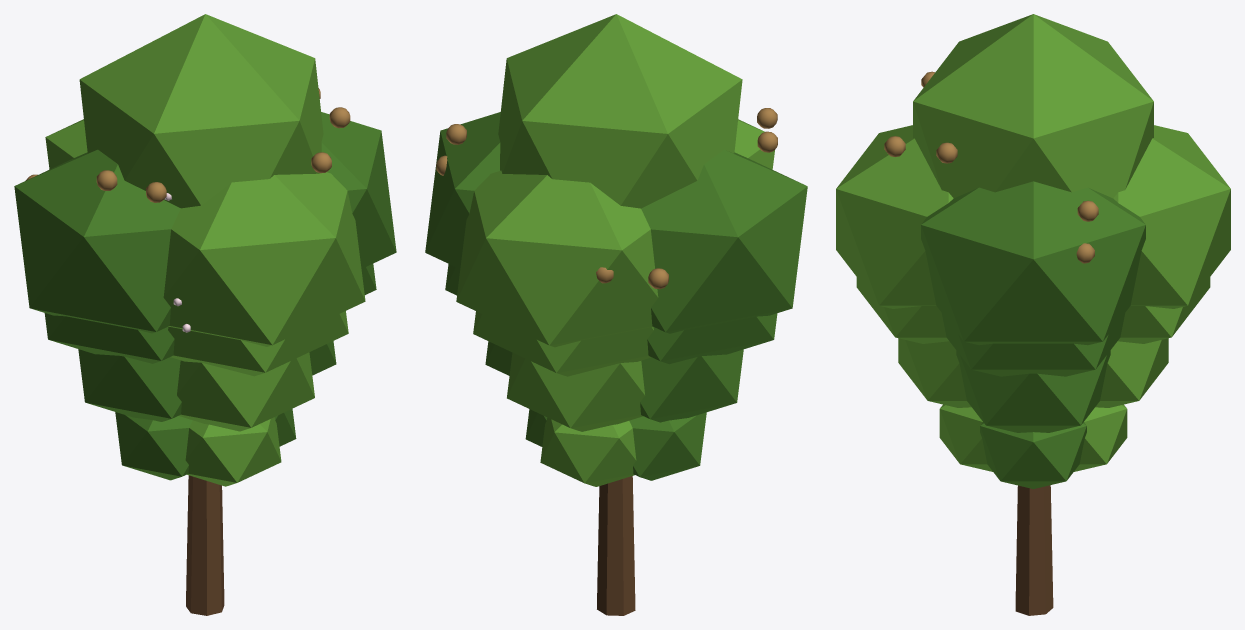
The model's file is Crop_Nut_Walnut.fbx.
3 views of the same model, side by side, from view 1: azimuth 30°, elevation 25°; view 2: azimuth 150°, elevation 25°; view 3: azimuth 270°, elevation 25° (orthographic).
Parts seen in each view (by area): view 1: Crop_Nut_Walnut__S4, Crop_Nut_Walnut__S2, Crop_Nut_Walnut__S3, Crop_Nut_Walnut__S1; view 2: Crop_Nut_Walnut__S4, Crop_Nut_Walnut__S2, Crop_Nut_Walnut__S1, Crop_Nut_Walnut__S3; view 3: Crop_Nut_Walnut__S4, Crop_Nut_Walnut__S2, Crop_Nut_Walnut__S1, Crop_Nut_Walnut__S3.
Boxes of the visible parts, x1,y1,x2,y2 form: Crop_Nut_Walnut__S4: (14,14,396,615); Crop_Nut_Walnut__S2: (78,341,336,431); Crop_Nut_Walnut__S3: (44,193,376,376); Crop_Nut_Walnut__S1: (115,408,296,486); Crop_Nut_Walnut__S4: (425,14,807,615); Crop_Nut_Walnut__S2: (485,341,743,431); Crop_Nut_Walnut__S1: (525,409,706,486); Crop_Nut_Walnut__S3: (445,264,777,376); Crop_Nut_Walnut__S4: (836,14,1230,615); Crop_Nut_Walnut__S2: (898,338,1168,432); Crop_Nut_Walnut__S1: (939,404,1127,488); Crop_Nut_Walnut__S3: (856,277,1210,376).
Size of the model in its own units: 0.6543 by 1.05 by 0.6356.
